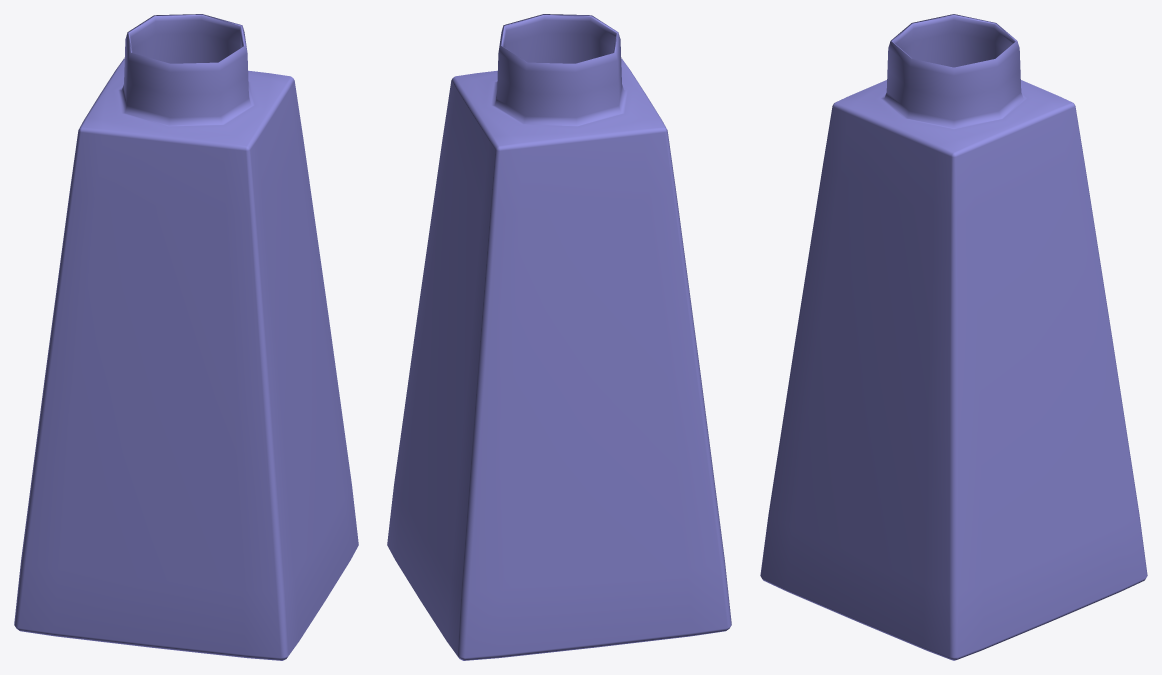
Rendered from uploads_files_1923420_Salt+Shakers_Body6.FBX.
3 renders of one model, left to right at view 1: azimuth 30°, elevation 25°; view 2: azimuth 150°, elevation 25°; view 3: azimuth 270°, elevation 25°, orthographic. The views are drawn at different scales.
Visible parts, largest first — view 1: uploads_files_1923420_Salt+Shakers_Body6; view 2: uploads_files_1923420_Salt+Shakers_Body6; view 3: uploads_files_1923420_Salt+Shakers_Body6.
Boxes of the visible parts, bbox=[...] form: uploads_files_1923420_Salt+Shakers_Body6: bbox=[14, 14, 358, 660]; uploads_files_1923420_Salt+Shakers_Body6: bbox=[387, 14, 731, 660]; uploads_files_1923420_Salt+Shakers_Body6: bbox=[760, 14, 1147, 660].
Size of what is drawn, in the model's own units: 2.69 by 2.69 by 4.17.
